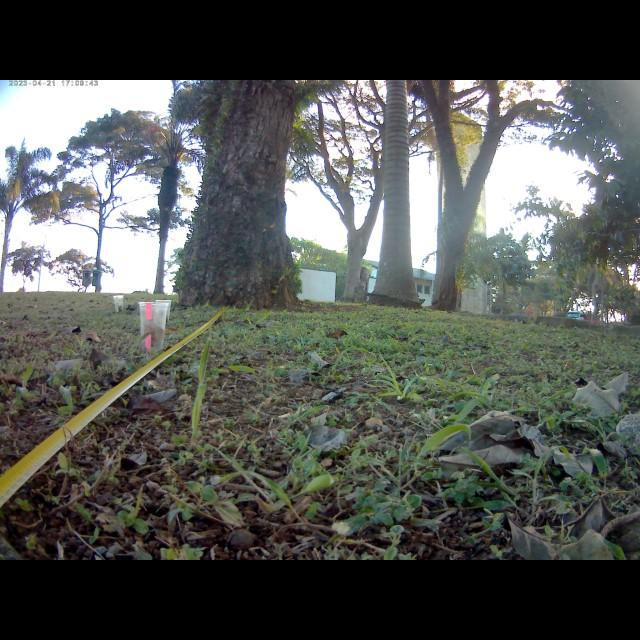arvore: (172, 80, 315, 309)
